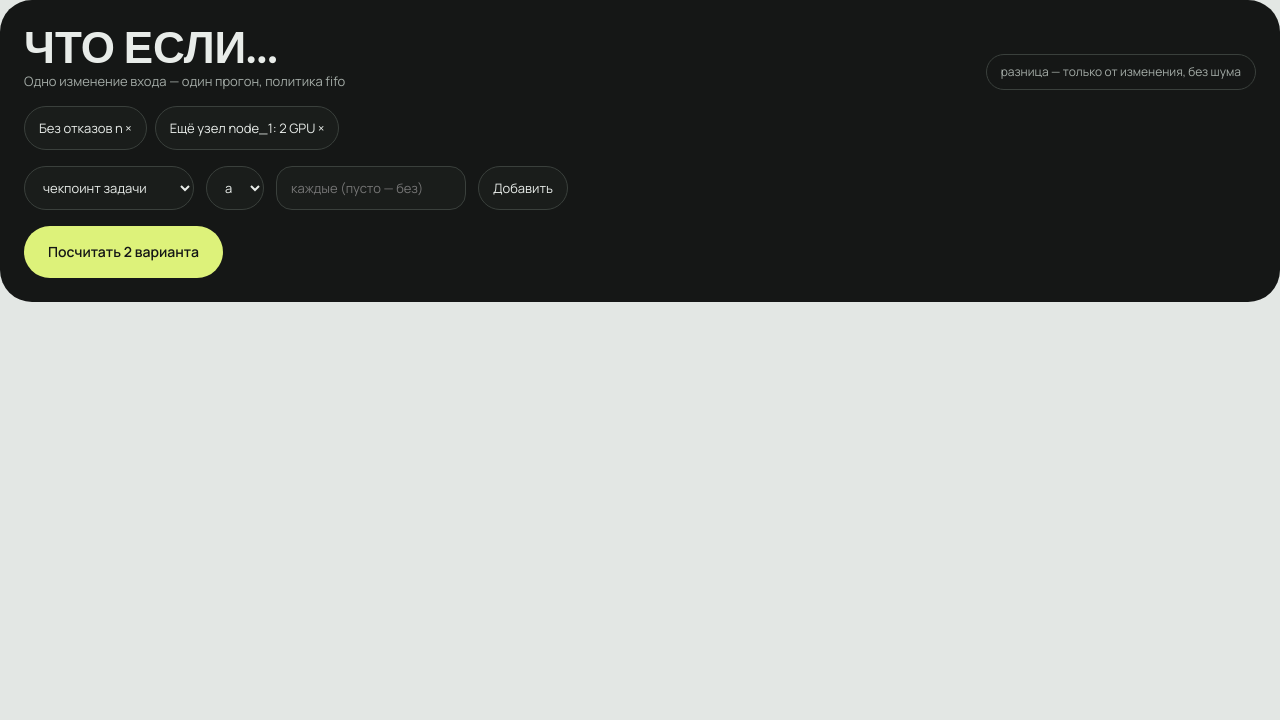
Test case: WhatIf › starts from suggestions, lets edit the list and shows variants with deltas
Step 1. Click the button with aria-label "Убрать: Ещё узел node_1: 2 GPU" → (247, 128), box [155,106,339,150]
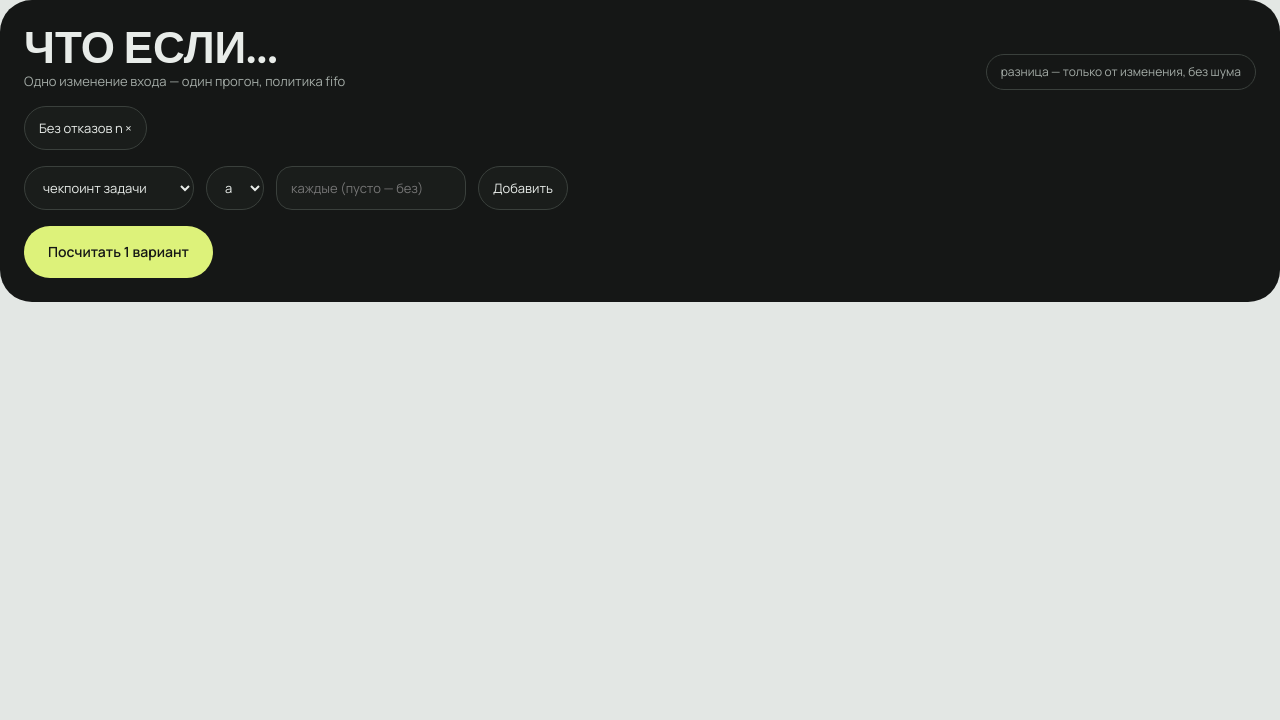
Step 2. Select "приоритет" in the dropdown named "Вид вмешательства" → (109, 188), box [24,166,194,210]
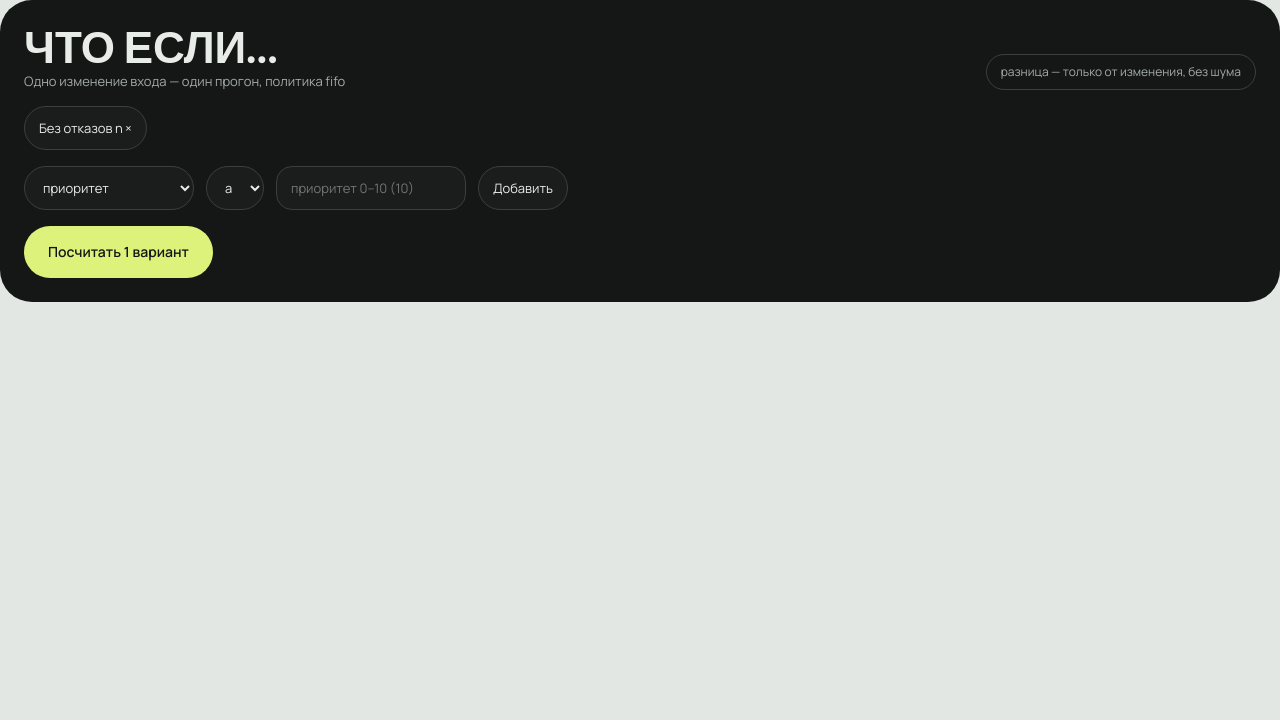
Step 3. Type "7" into the number field labelled "приоритет 0–10 (10)" → (371, 188), box [276,166,466,210]
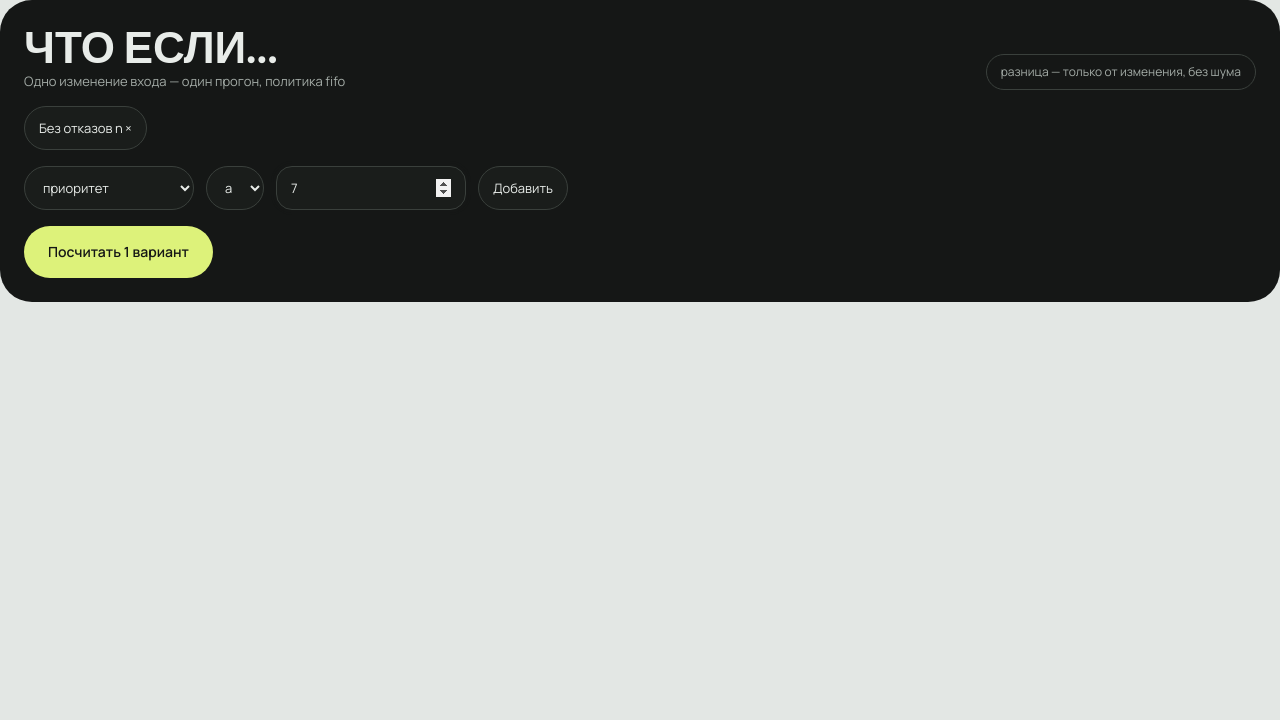
Step 4. Click the button "Добавить" → (523, 188), box [478,166,568,210]
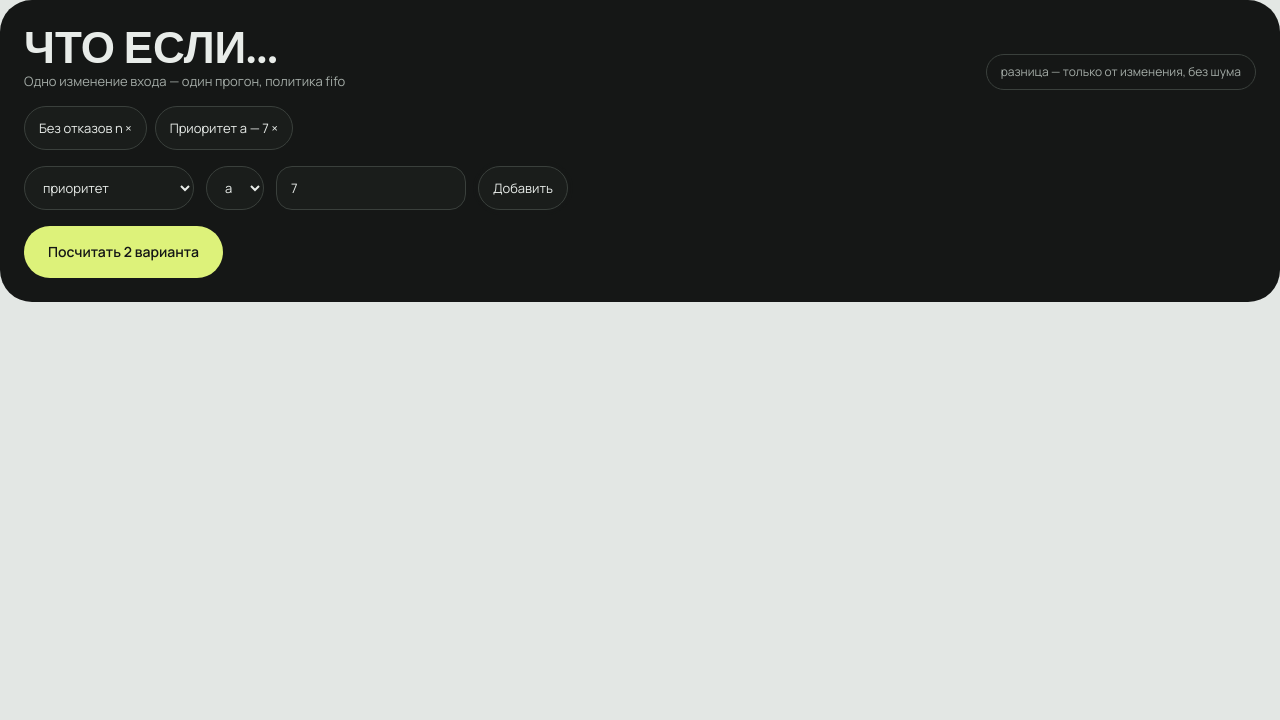
Step 5. Click the button "Посчитать 2 варианта" → (123, 252), box [24,226,223,278]
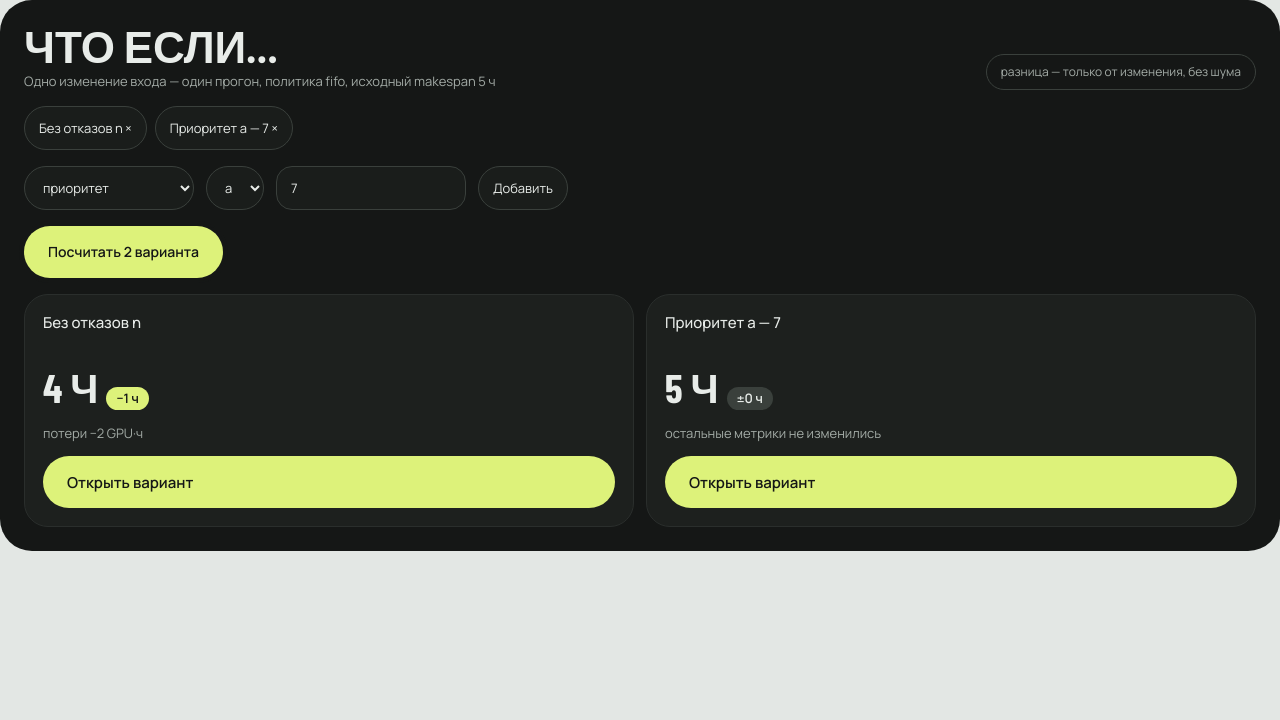
Now the text "−1 ч" is shown, box [106,387,149,410]
Now the text "потери −2 GPU·ч" is shown, box [43,424,143,442]
Now the text "±0 ч" is shown, box [727,387,773,410]
